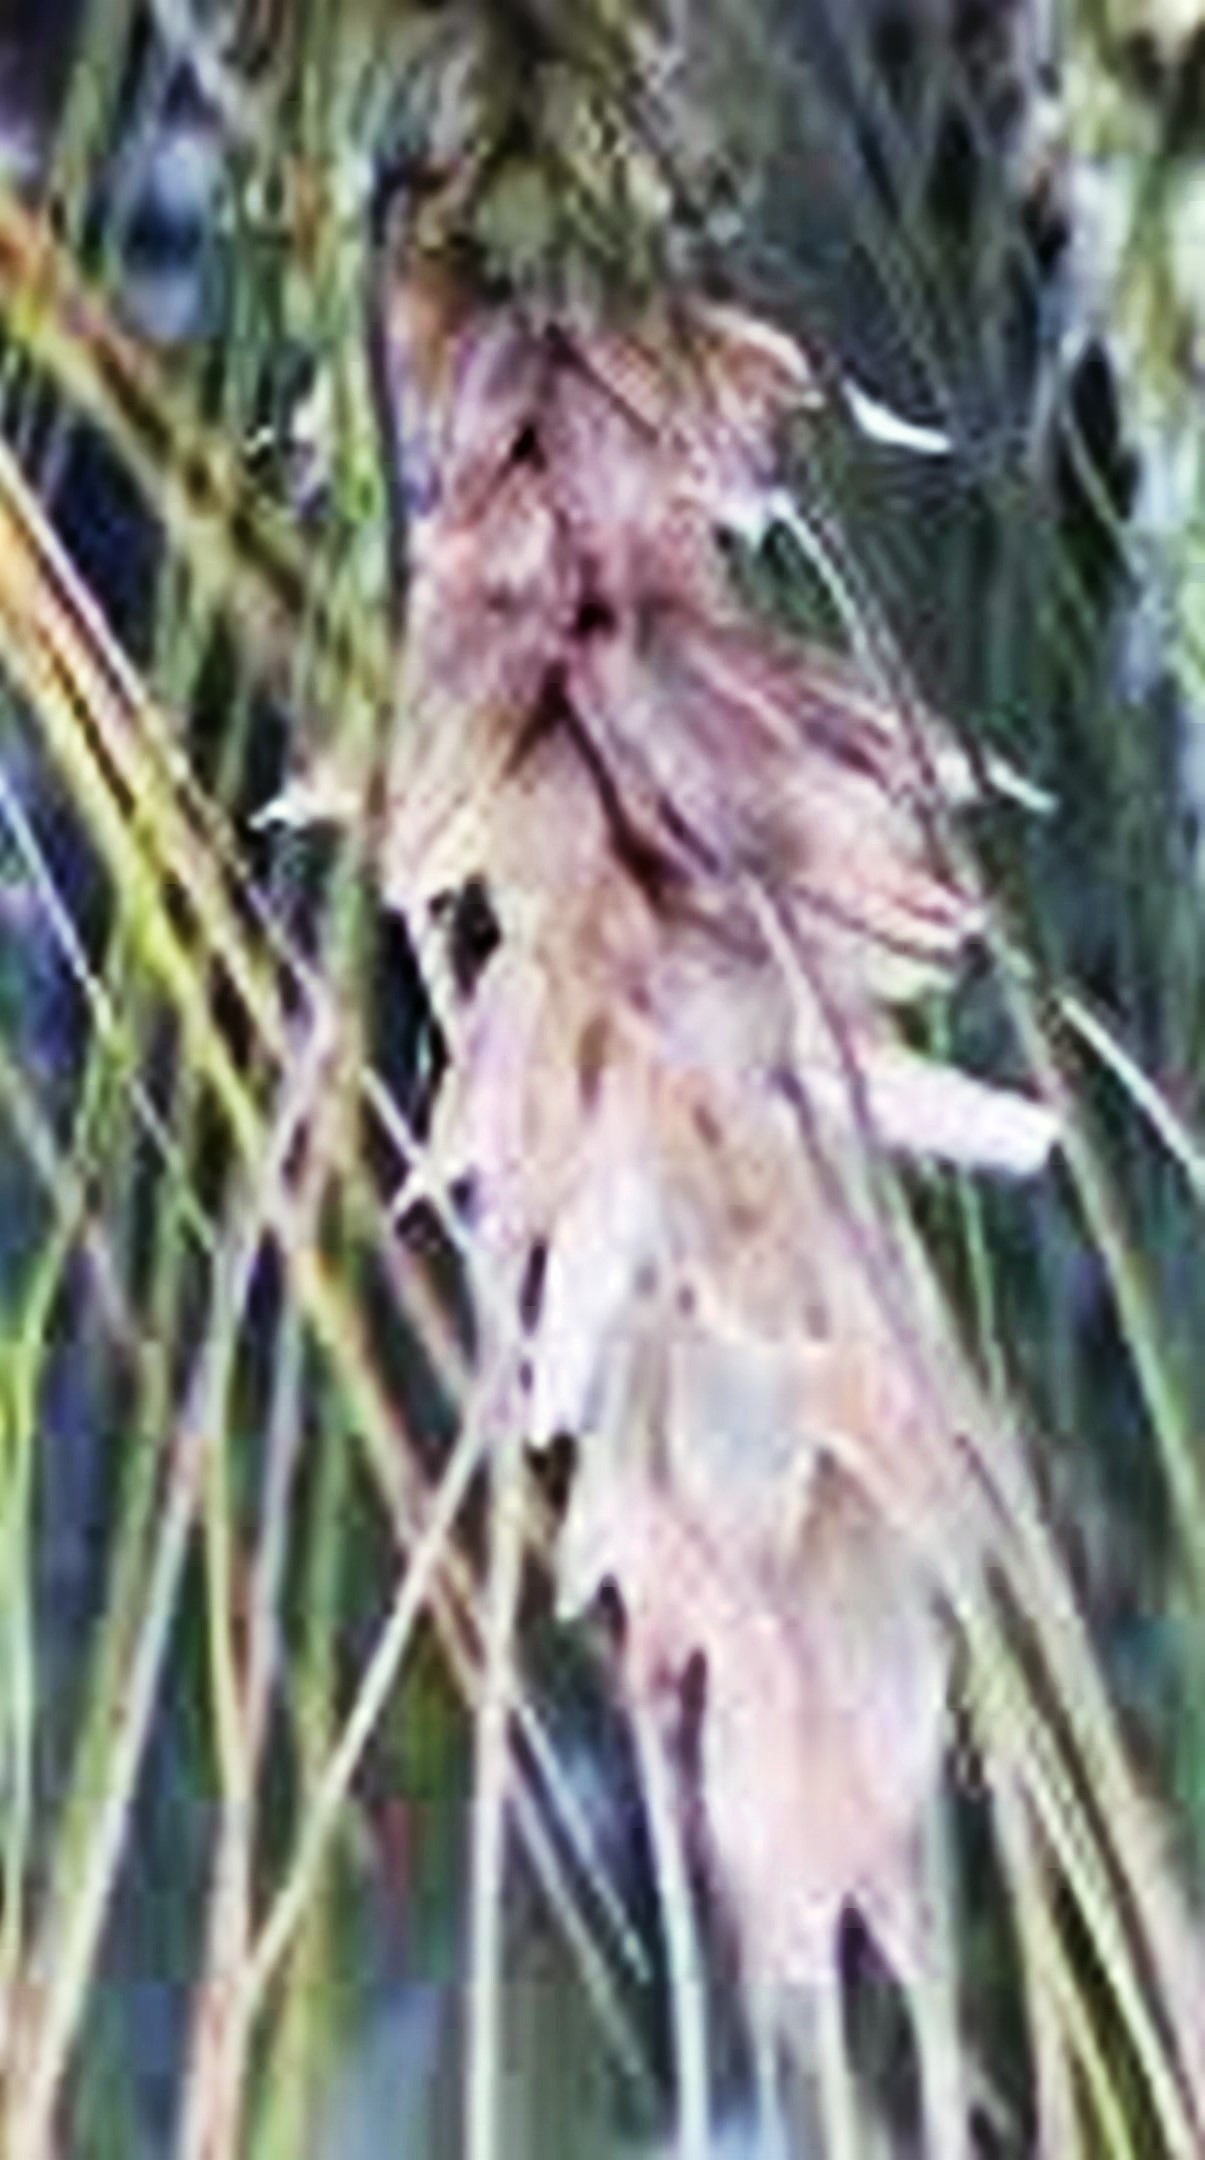Wheat scab: (275, 45, 1028, 1817)
